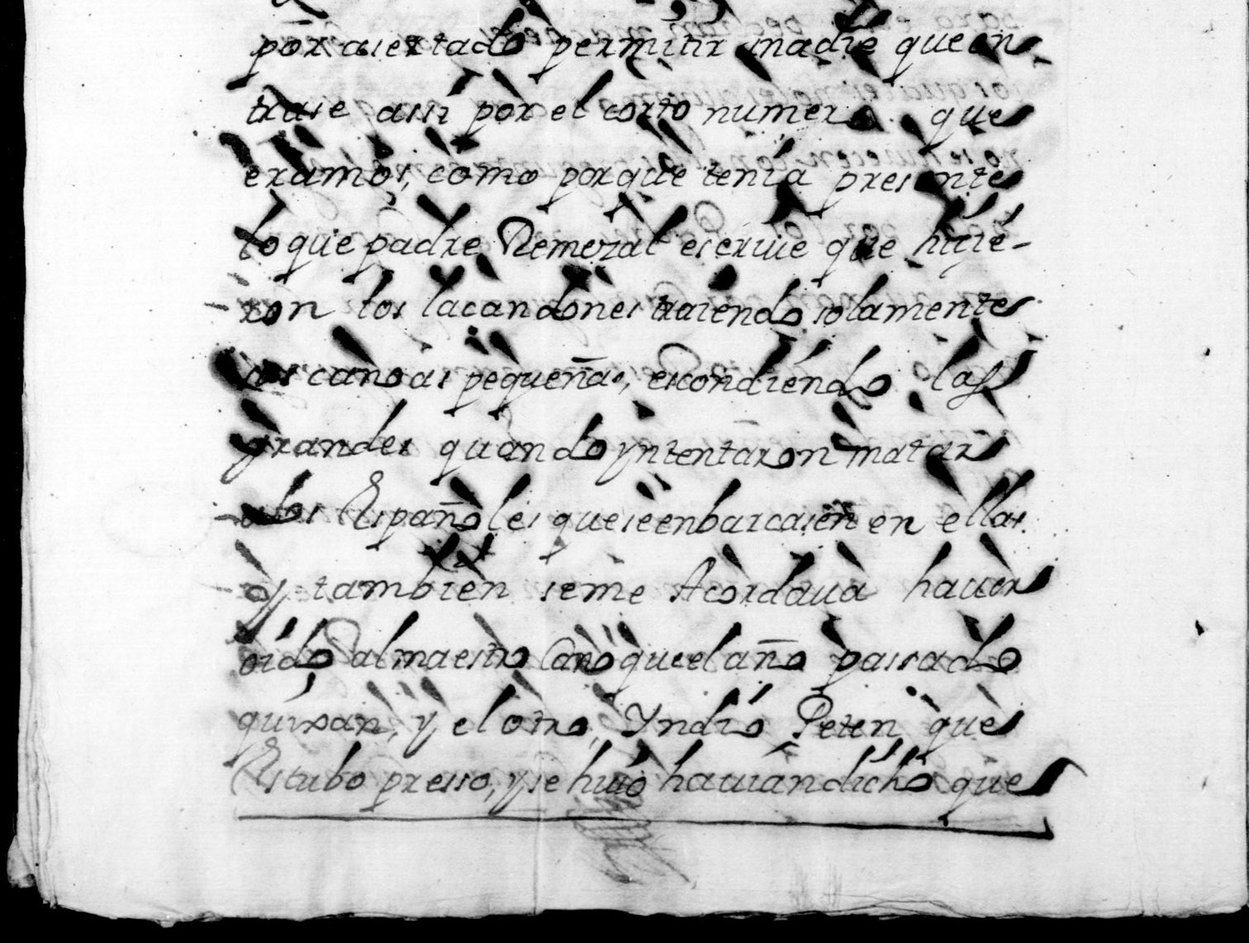lacandon: (422, 264, 640, 320)
